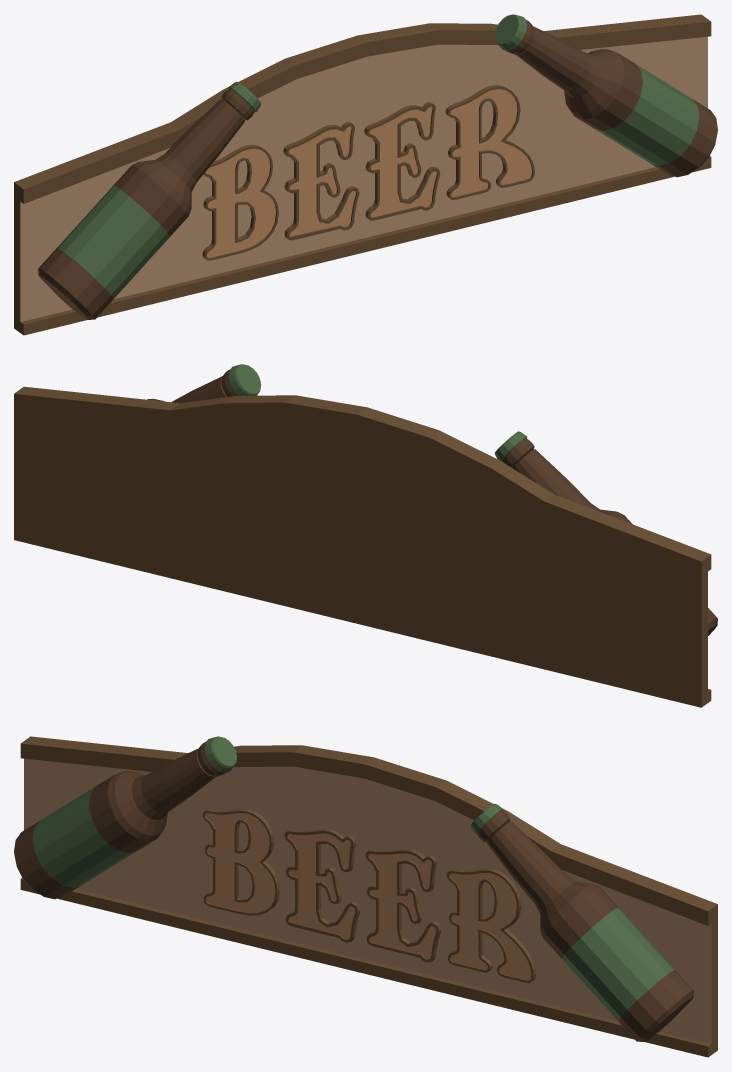
The model's file is SM_BuildingDecor_62.fbx.
3 renders of one model, top to bottom at view 1: azimuth 30°, elevation 25°; view 2: azimuth 150°, elevation 25°; view 3: azimuth 330°, elevation 25°, orthographic.
Visible parts, largest first — view 1: SM_BuildingDecor_62; view 2: SM_BuildingDecor_62; view 3: SM_BuildingDecor_62.
Part boxes in pixels (<box>): SM_BuildingDecor_62: <box>14,14,717,335</box>; SM_BuildingDecor_62: <box>14,364,717,707</box>; SM_BuildingDecor_62: <box>14,736,717,1057</box>.
Bounding box in the file's own units: 2 × 0.5831 × 0.1991.
